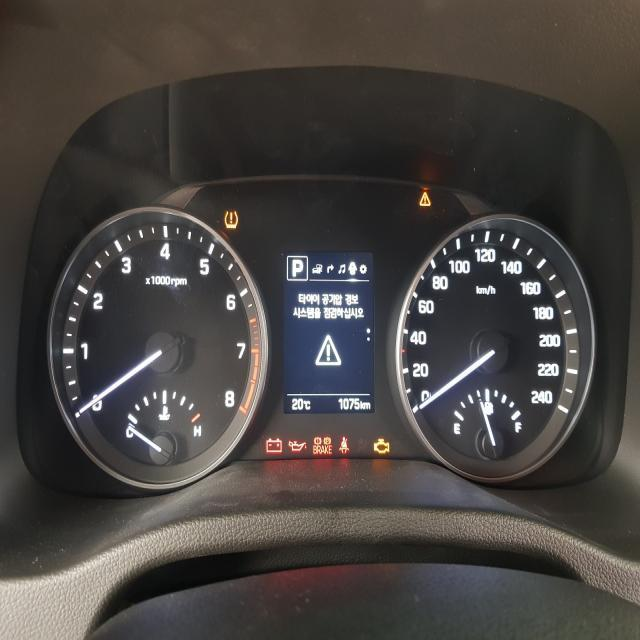Central Warning lamp: (418, 190, 430, 207)
